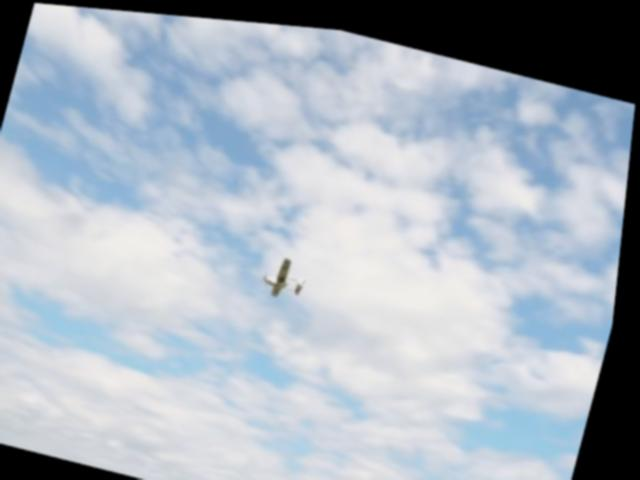uav: (263, 246, 315, 299)
